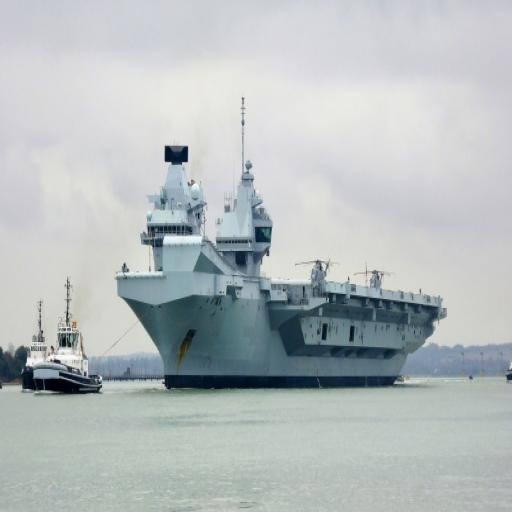Portanaves: (112, 90, 449, 396)
